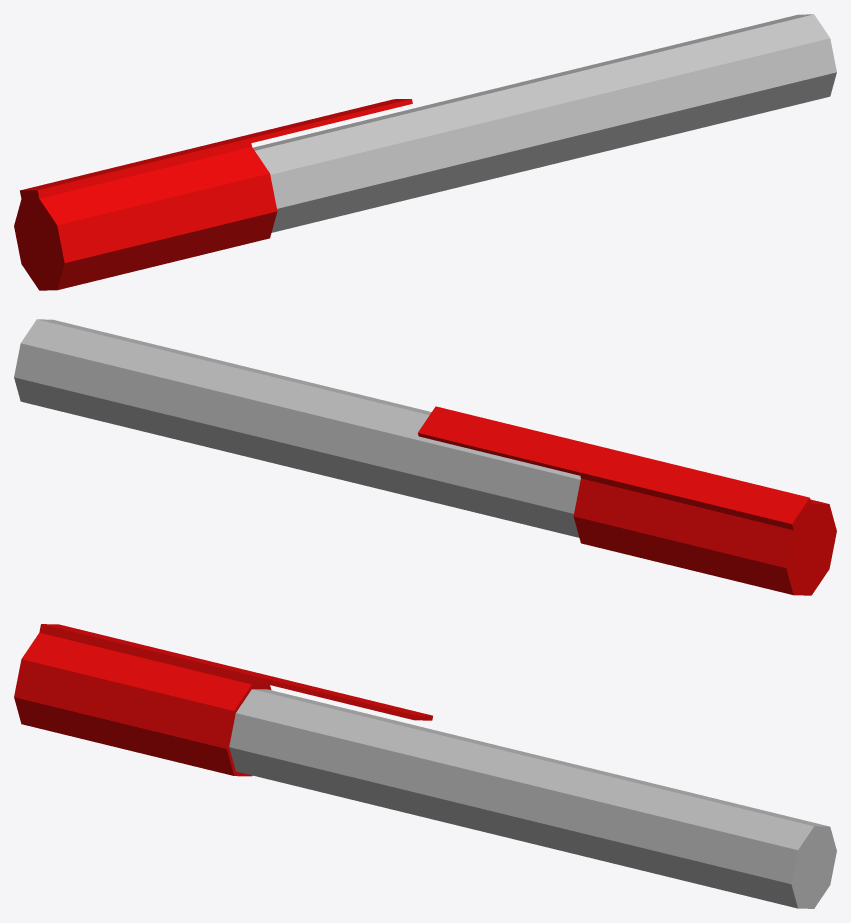
File: Tusch_Rød.fbx
3 renders of one model, top to bottom at view 1: azimuth 30°, elevation 25°; view 2: azimuth 150°, elevation 25°; view 3: azimuth 330°, elevation 25°, orthographic.
Parts seen in each view (by area): view 1: Cylinder.008; view 2: Cylinder.008; view 3: Cylinder.008.
Boxes of the visible parts, x1,y1,x2,y2 form: Cylinder.008: [14, 14, 836, 290]; Cylinder.008: [14, 319, 836, 595]; Cylinder.008: [14, 624, 836, 908].
Size of the model in its own units: 26.65 by 3.26 by 3.02.
